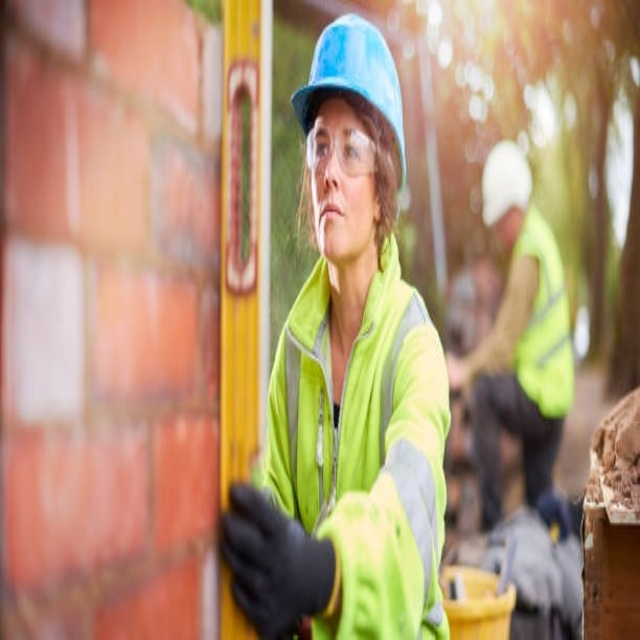Gafas: (306, 125, 381, 176)
Guantes: (219, 480, 336, 636)
Sin_mascara: (317, 196, 351, 246)
